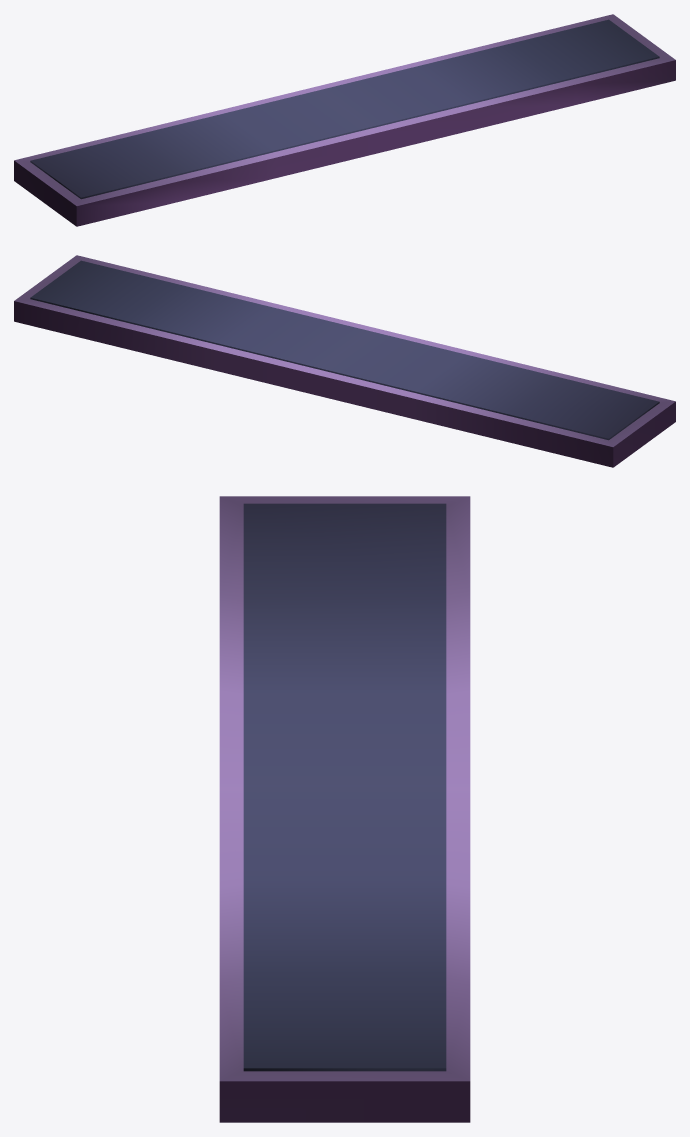
Rendered from prop-factory_conveyor_belt_A.glb.
3 renders of one model, top to bottom at view 1: azimuth 30°, elevation 25°; view 2: azimuth 150°, elevation 25°; view 3: azimuth 270°, elevation 25°, orthographic. The views are drawn at different scales.
Parts seen in each view (by area): view 1: prop-factory_conveyor_belt_A; view 2: prop-factory_conveyor_belt_A; view 3: prop-factory_conveyor_belt_A.
Boxes of the visible parts, x1,y1,x2,y2 form: prop-factory_conveyor_belt_A: [14, 14, 675, 226]; prop-factory_conveyor_belt_A: [14, 255, 675, 467]; prop-factory_conveyor_belt_A: [219, 496, 470, 1122].
Bounding box in the file's own units: 13.02 × 0.4583 × 2.36.
